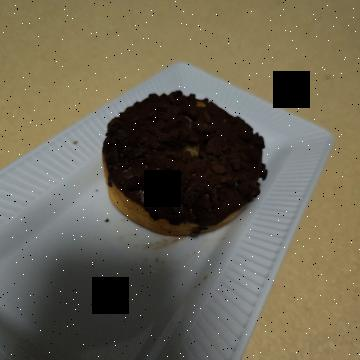doughnut: (76, 75, 264, 266)
